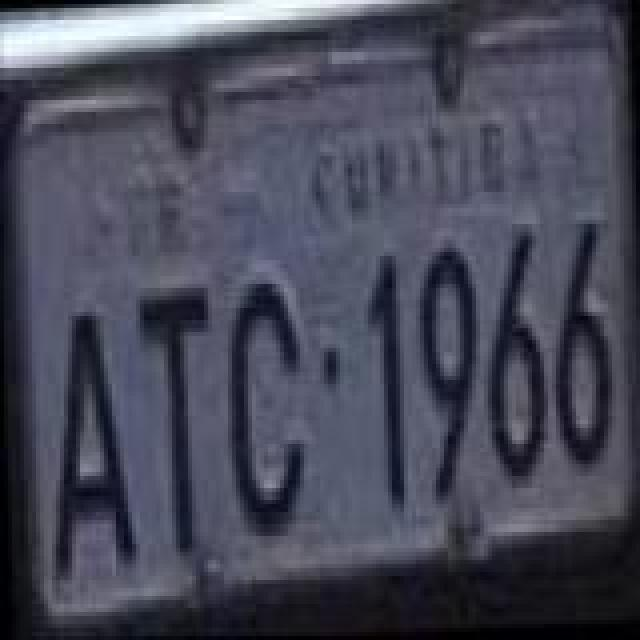1: (360, 252, 412, 524)
6: (478, 226, 550, 498), (546, 206, 618, 470)
9: (414, 242, 486, 514)
A: (40, 306, 140, 586)
C: (222, 276, 310, 548)
T: (136, 280, 220, 564)
